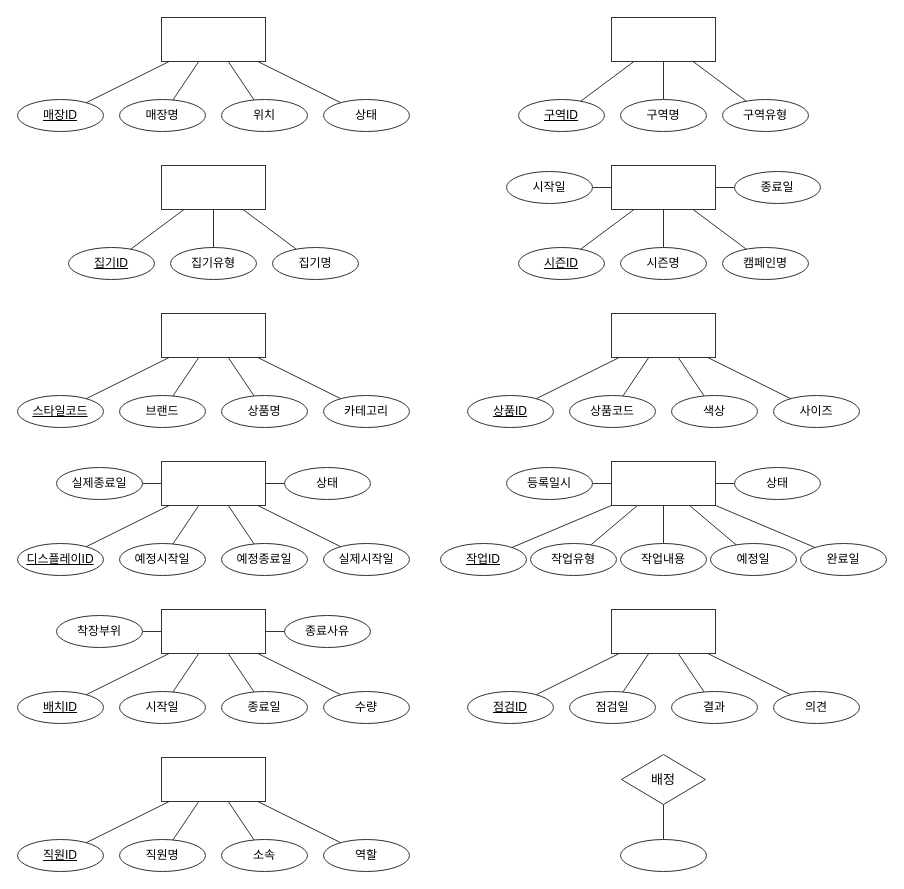
The diagram is 904 pixels wide and 889 high, and some of its shapes have lost their labels. The shapes that lost their labels are listed below. From the top down, each one's centre as x and y in pixels, then its label:
At [213,39]: "매장".
At [663,39]: "구역".
At [213,187]: "집기".
At [663,187]: "시즌".
At [213,335]: "스타일".
At [663,335]: "상품".
At [213,483]: "디스플레이".
At [663,483]: "VMD작업".
At [213,631]: "상품배치".
At [663,631]: "점검기록".
At [213,779]: "직원".
At [663,855]: "배정ID".
